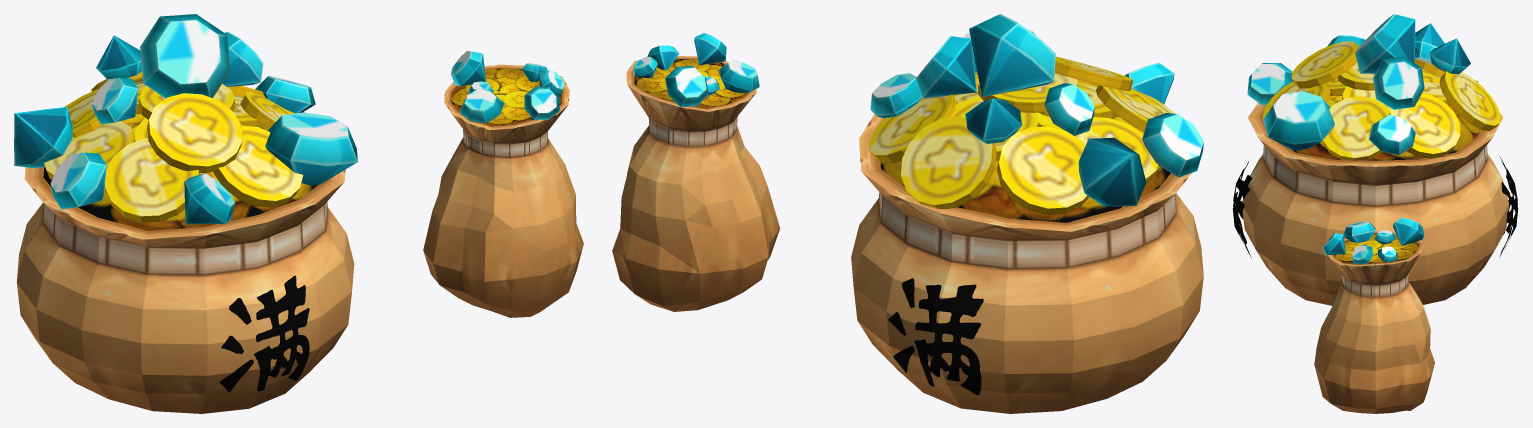
File: tubiao01.FBX
3 renders of one model, left to right at view 1: azimuth 30°, elevation 25°; view 2: azimuth 150°, elevation 25°; view 3: azimuth 270°, elevation 25°, orthographic. The views are drawn at different scales.
Parts seen in each view (by area): view 1: Object007, Object008; view 2: Object007, Object008; view 3: Object007, Object008.
Boxes of the visible parts, left/top/right/bottom form: Object007: left=14, top=14, right=357, bottom=413; Object008: left=423, top=51, right=583, bottom=317; Object007: left=851, top=14, right=1203, bottom=413; Object008: left=612, top=33, right=780, bottom=311; Object007: left=1233, top=14, right=1518, bottom=305; Object008: left=1314, top=217, right=1434, bottom=413.
Size of the model in its own units: 187 by 118 by 111.
